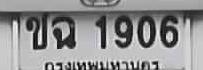0: (137, 12, 155, 46)
1: (95, 14, 106, 48)
6: (160, 12, 177, 46)
9: (114, 13, 132, 47)
A09: (51, 14, 75, 48)
A10: (25, 11, 49, 49)
